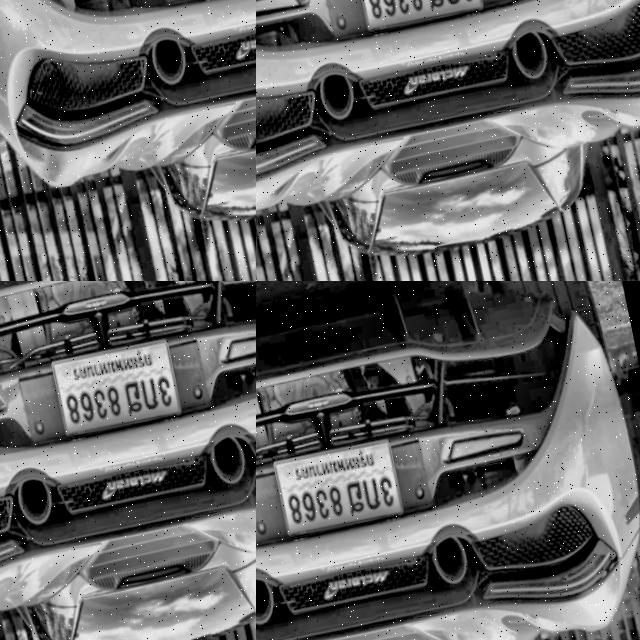license-plate: (271, 438, 406, 541)
